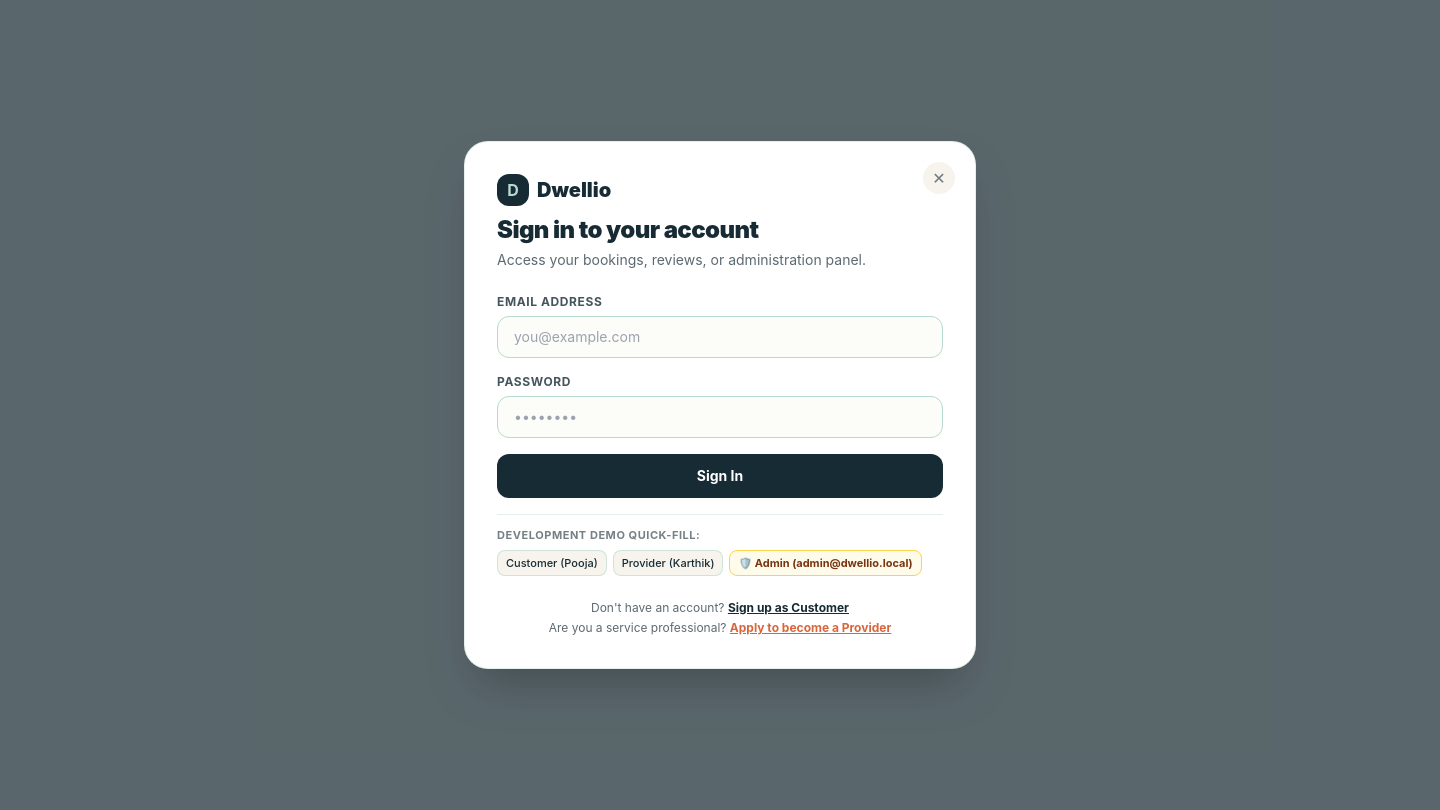
Test case: AuthModal Component › switches between login, customer registration, and provider application
Switch to register-customer
Click the button "Sign up as Customer" at (788, 608), box [728,600,849,616]
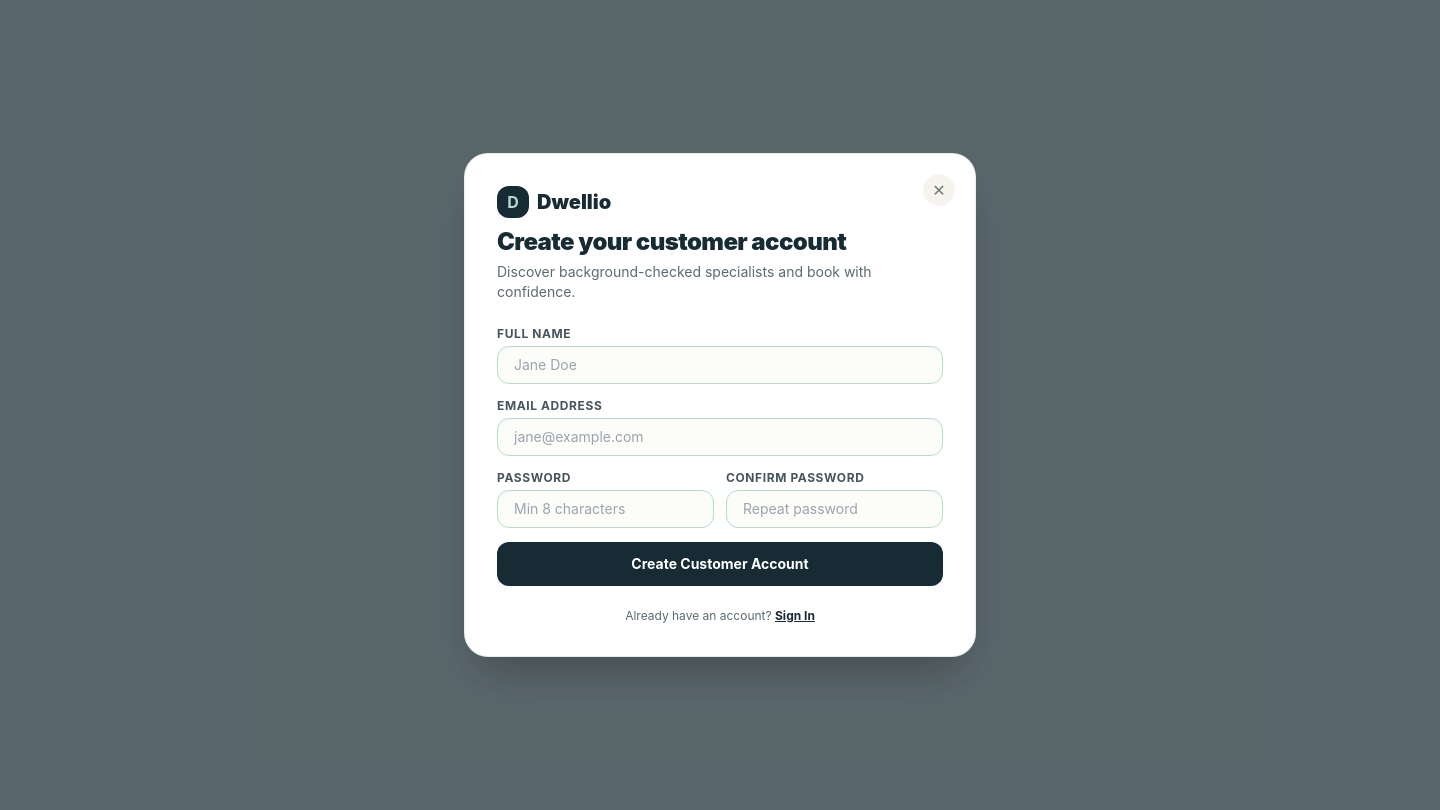
Check: the heading "Create your customer account" is shown, box [497,227,846,256]
Check: the field with placeholder "Jane Doe" is shown, box [497,346,943,384]
Check: the password field with placeholder "Min 8 characters" is shown, box [497,490,714,528]
Switch back to login
Click the button "Sign In" at (795, 616), box [775,608,815,624]
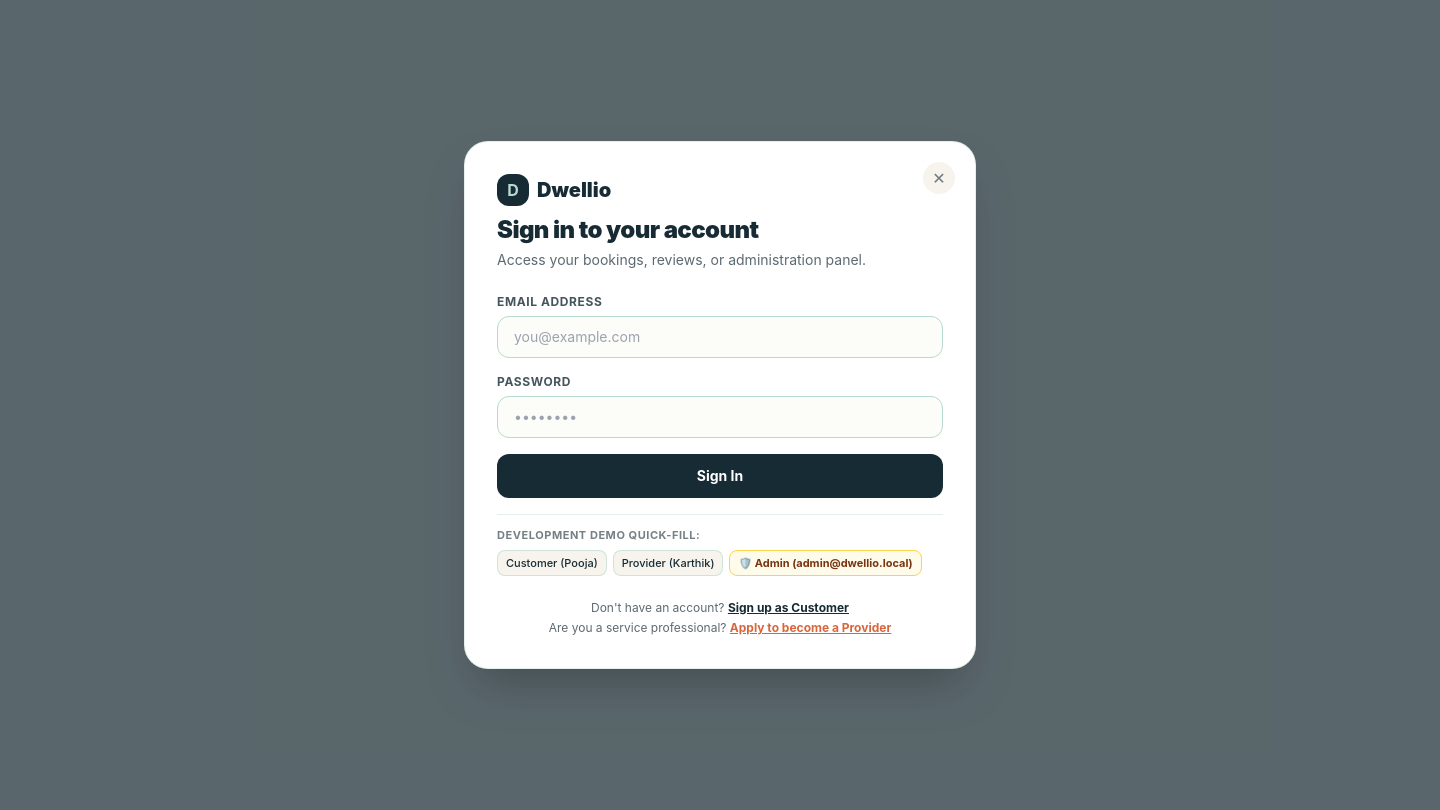
Check: the heading "Sign in to your account" is shown, box [497,215,758,244]
Switch to apply-provider
Click the button "Apply to become a Provider" at (811, 628), box [730,620,891,636]
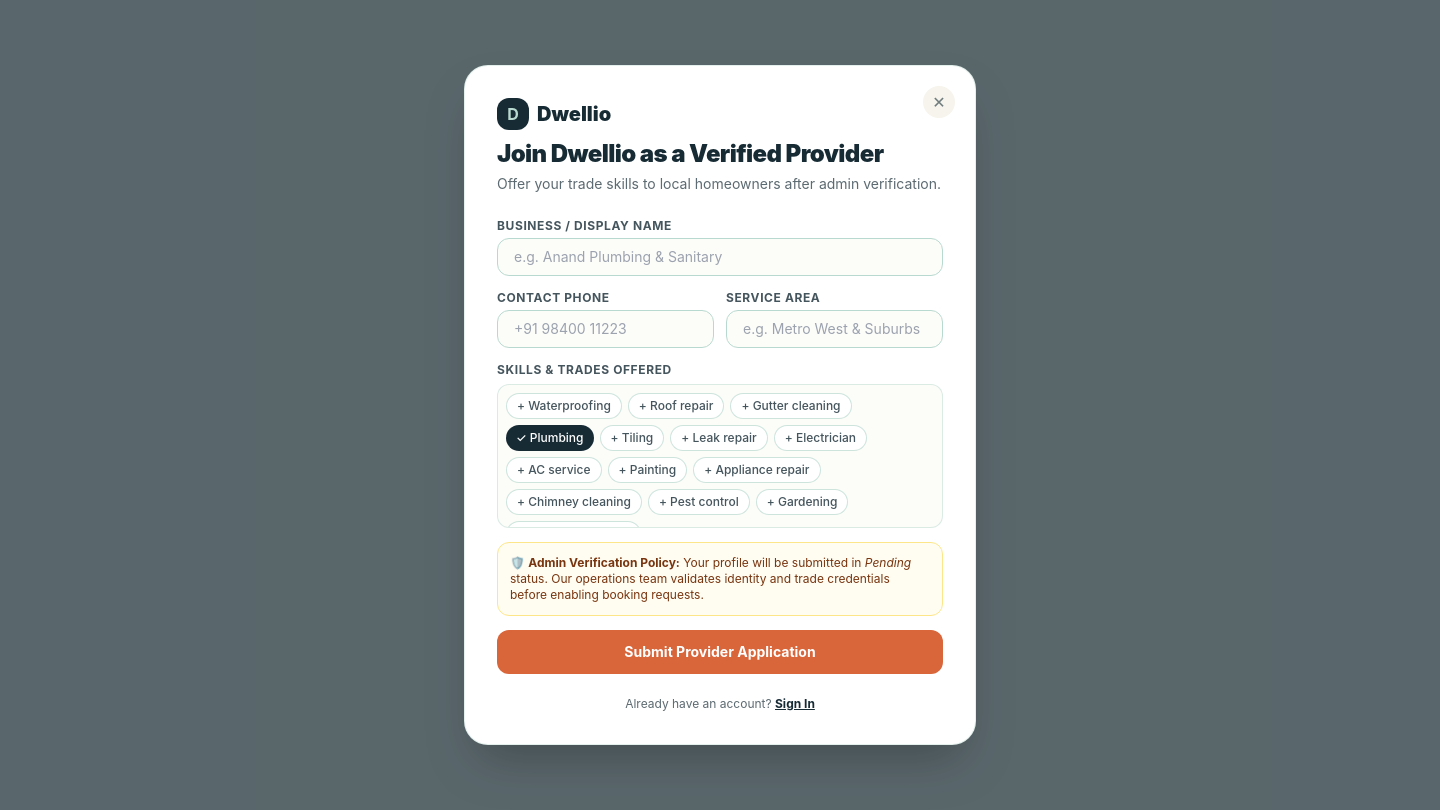
Check: the heading "Join Dwellio as a Verified Provider" is shown, box [497,138,943,170]
Check: the field with placeholder "e.g. Anand Plumbing & Sanitary" is shown, box [497,238,943,276]
